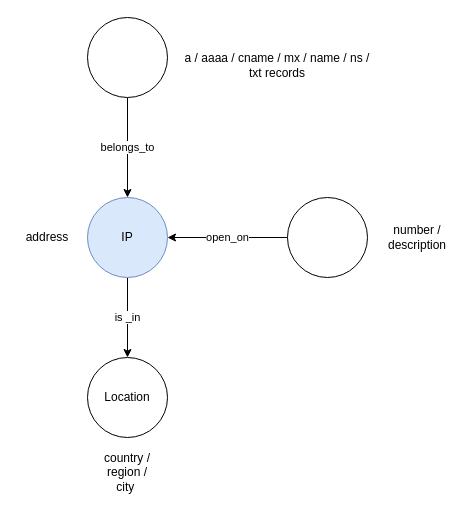
The diagram is 464 pixels wide and 511 high, and some of its shapes have lost their labels. The centre of each missing label's shape, as x and y in pixels:
"Domain" goes at point 127,57.
"Port" goes at point 327,237.
